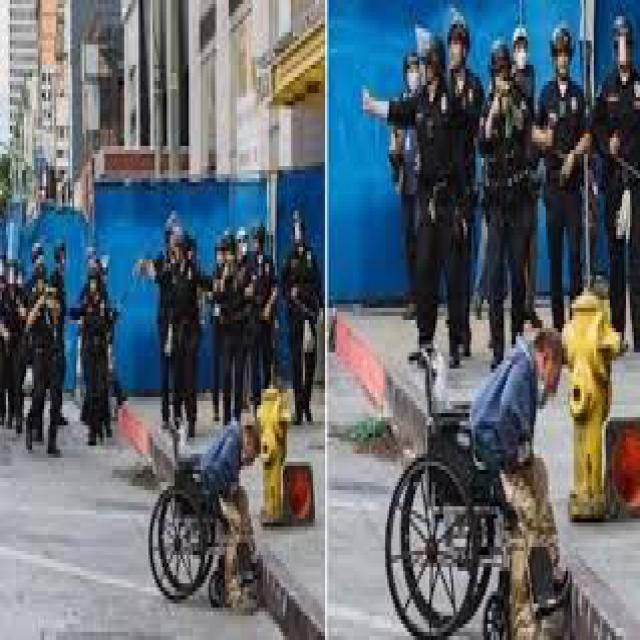wheelchairs: (380, 340, 510, 636), (142, 421, 239, 612)
